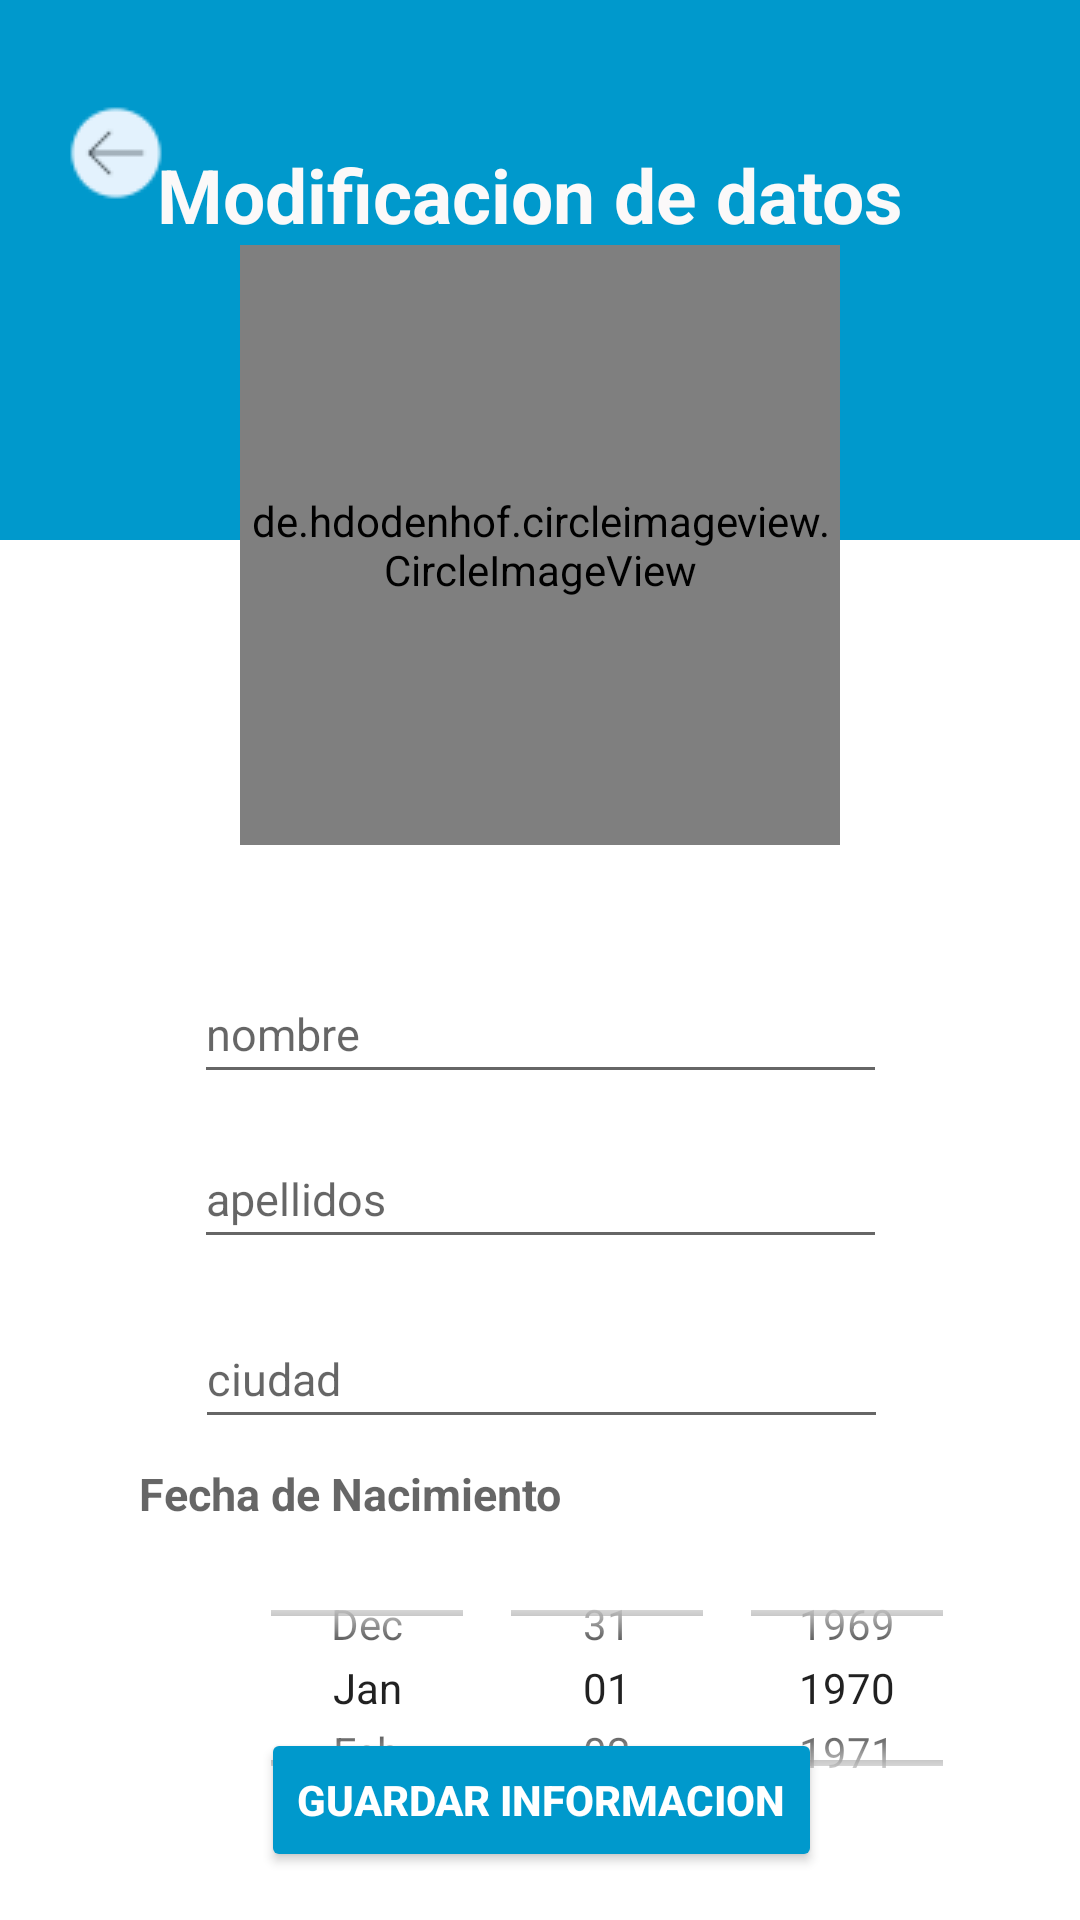

Locate icon controls on the screen. Image size 1080×1920, boxes as box=[x1, y1, x2, y2].
manu back: box=[70, 107, 162, 199]
